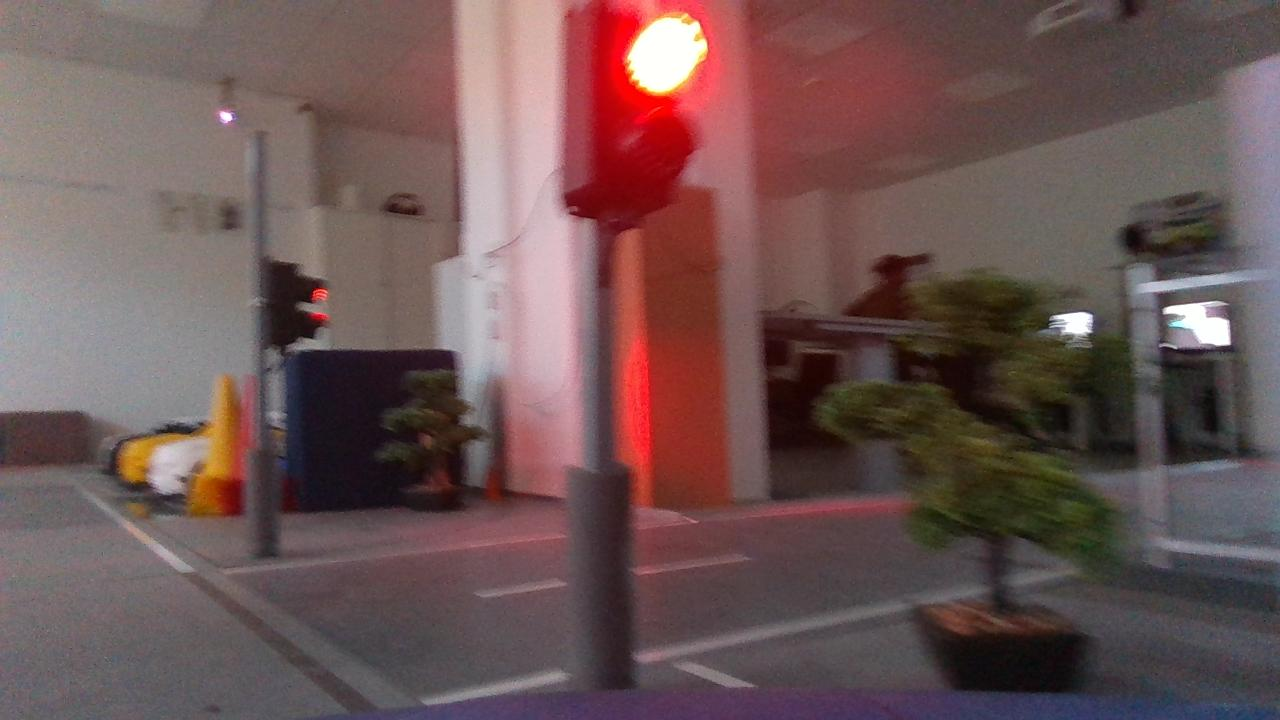traffic_light_red: (527, 1, 714, 268)
